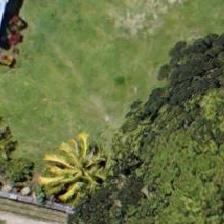Kelapa_Sawit: (37, 123, 127, 213)
